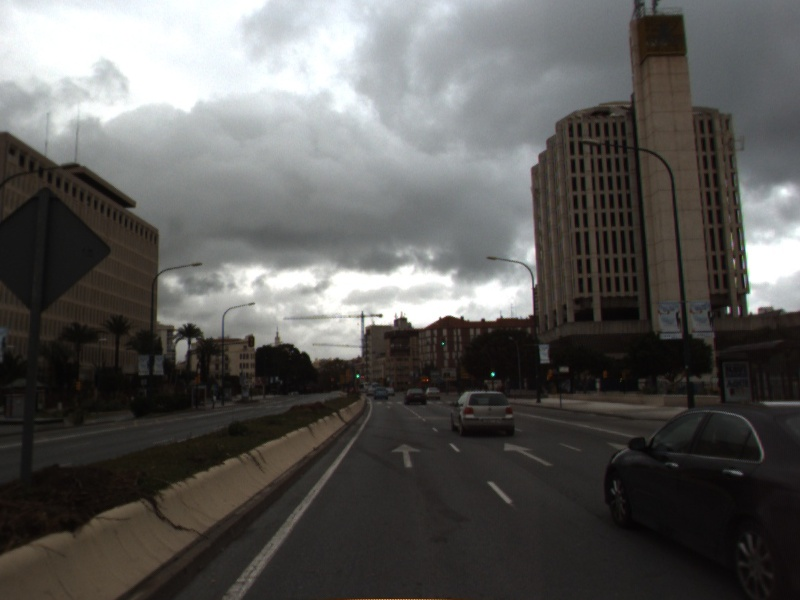STRAIGHT: (501, 440, 557, 468), (388, 441, 424, 470)
